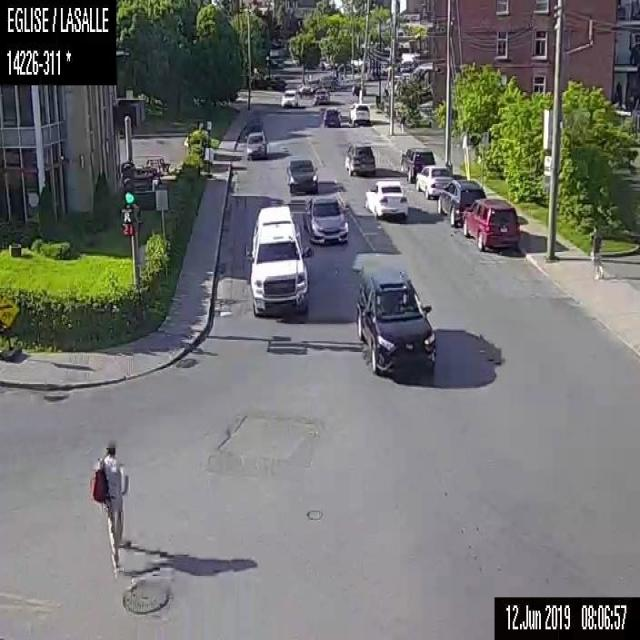pedestrian: (88, 439, 128, 577), (589, 224, 604, 279)
vehicle: (354, 266, 436, 374), (248, 202, 307, 314), (463, 194, 520, 253), (436, 177, 485, 227), (303, 195, 349, 243), (361, 177, 407, 220), (284, 155, 317, 195), (400, 146, 436, 182), (414, 163, 450, 199), (343, 140, 375, 176), (245, 130, 269, 160), (348, 101, 370, 127), (323, 104, 342, 127), (279, 88, 299, 107), (299, 78, 320, 96), (312, 88, 330, 104)
